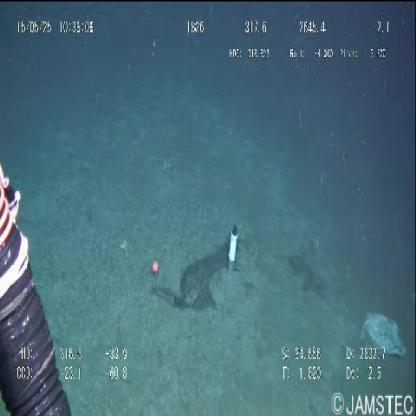Rác: (360, 308, 408, 361)
